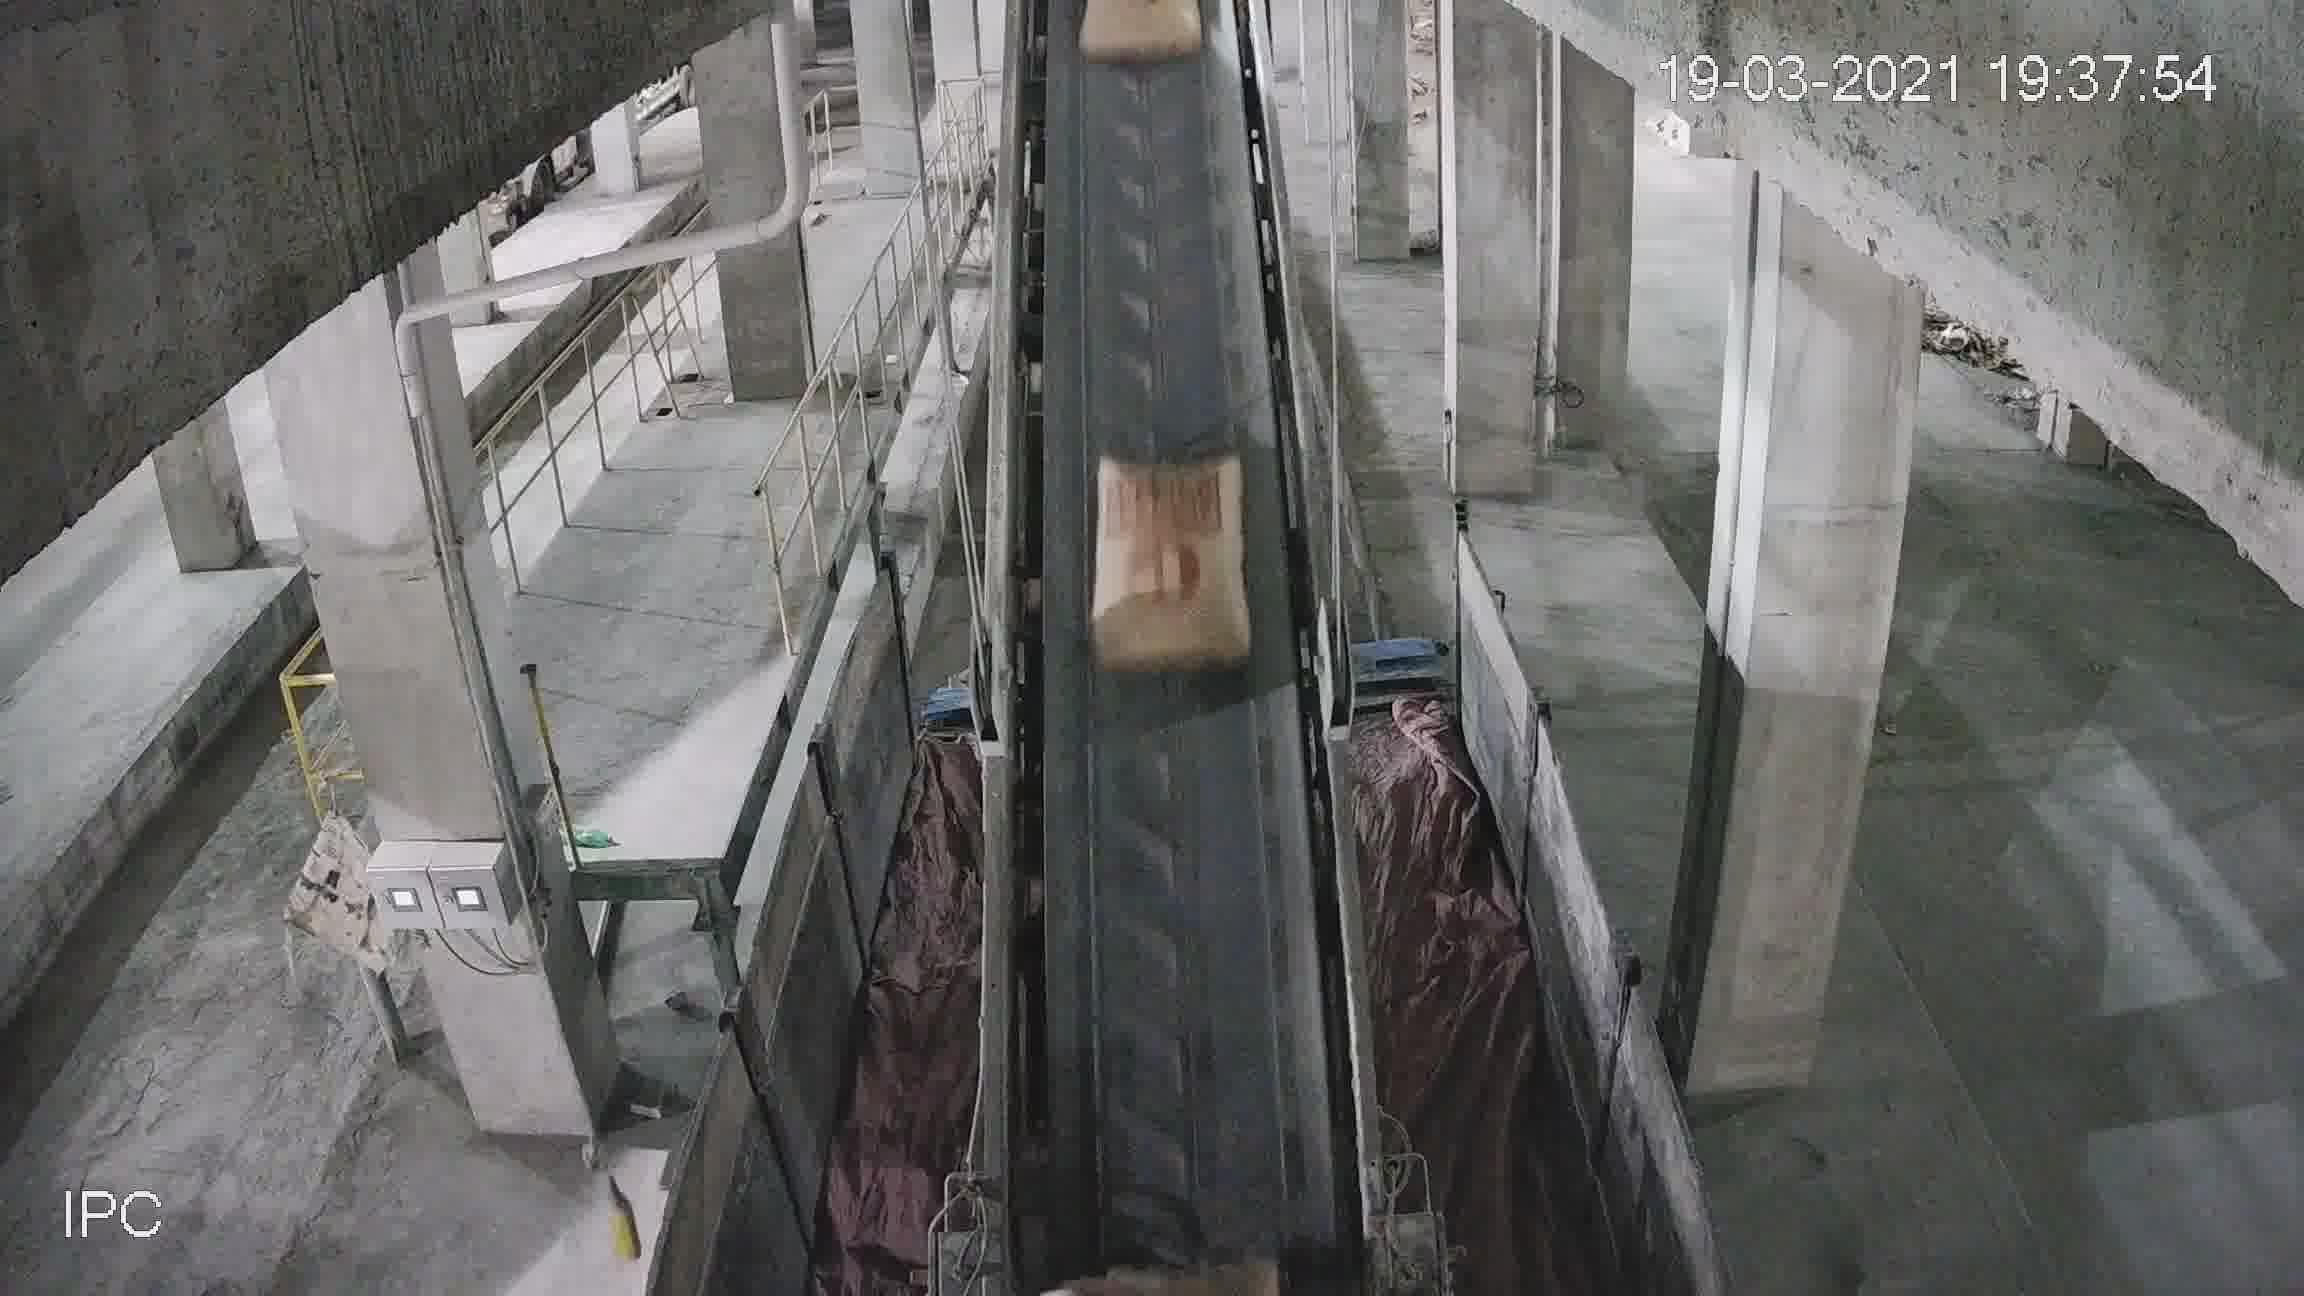bag: (1098, 453, 1253, 669)
belt: (987, 33, 1355, 1147)
